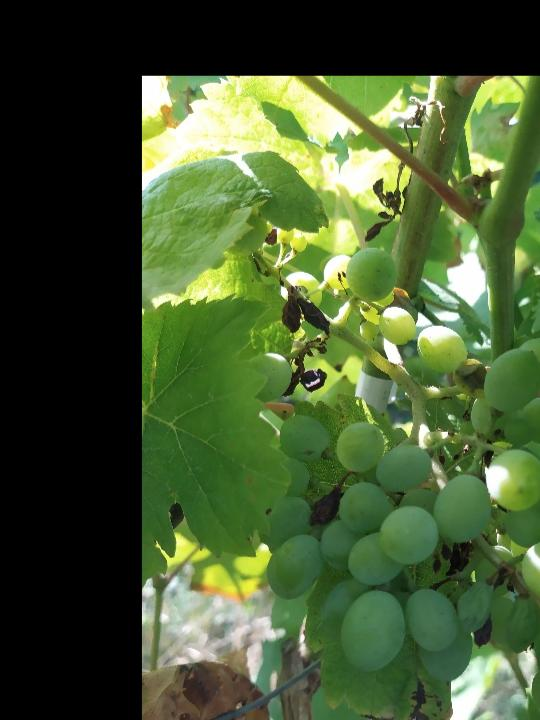grape: (252, 247, 540, 684)
